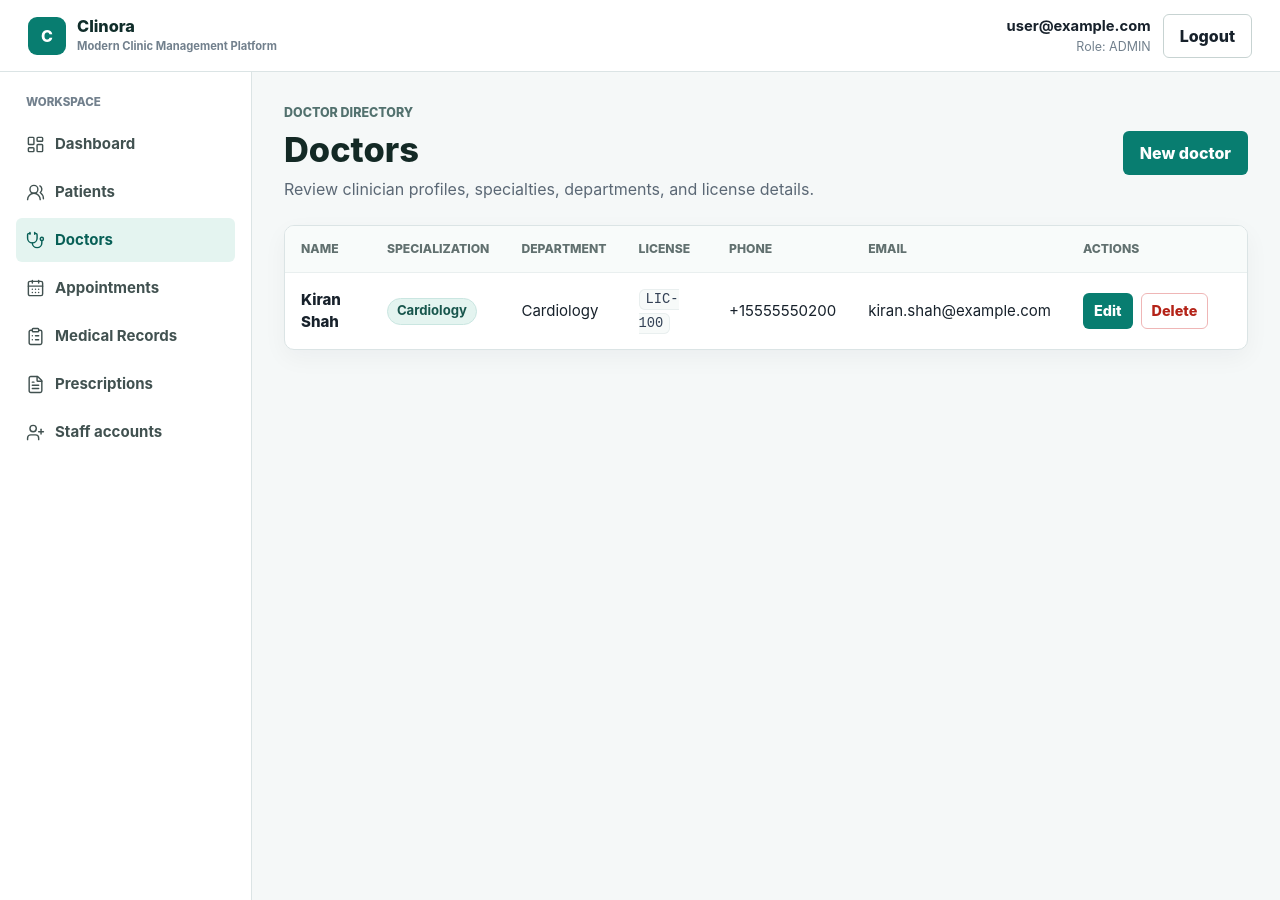
Test case: DoctorsPage › allows admins to delete doctors
Click the button "Delete" at {"x": 1174, "y": 311}, box [1140, 293, 1208, 329]
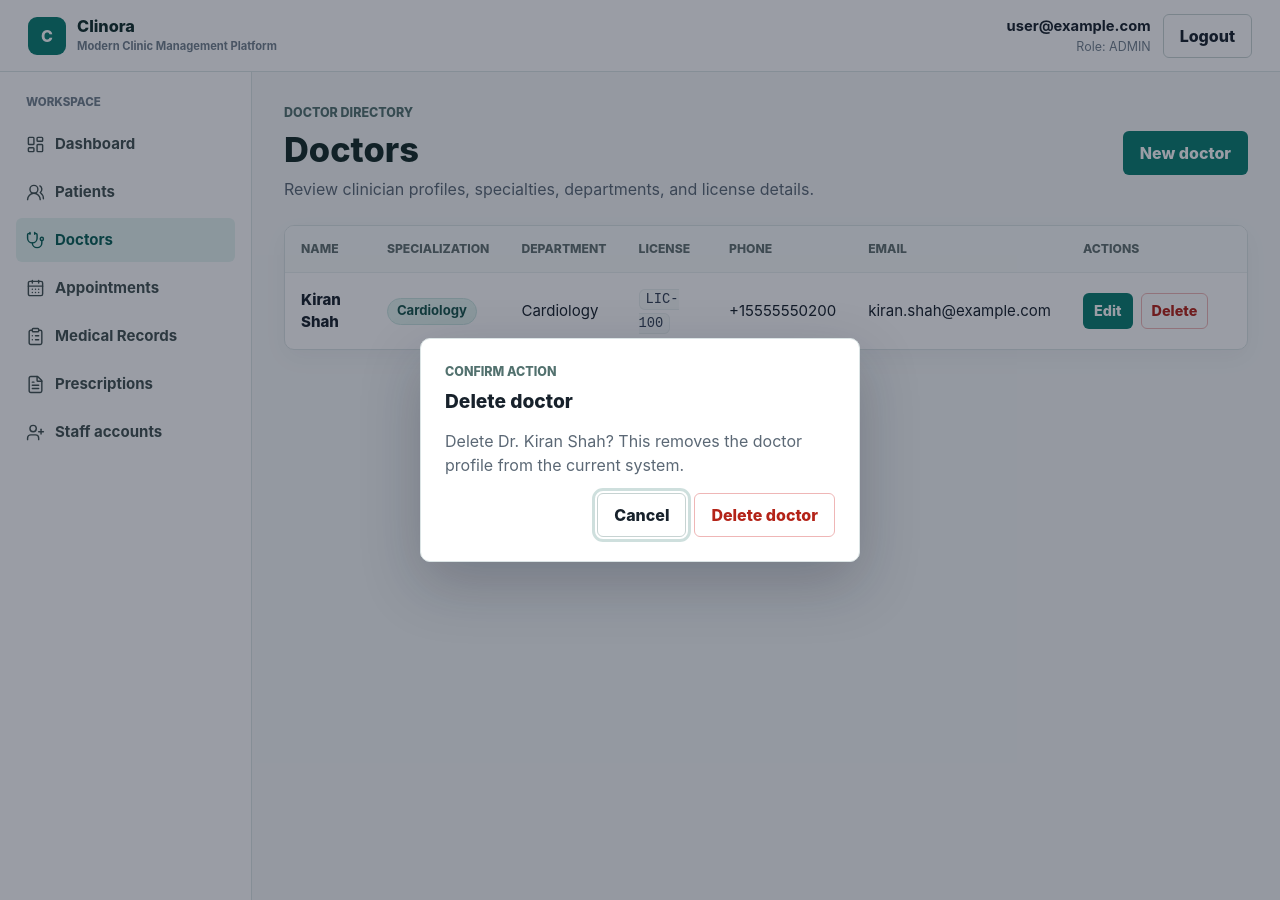
Expected: the dialog "Delete doctor" is shown, [420, 338, 860, 562]
Click the button "Delete doctor" at {"x": 765, "y": 515}, box [694, 493, 835, 537]
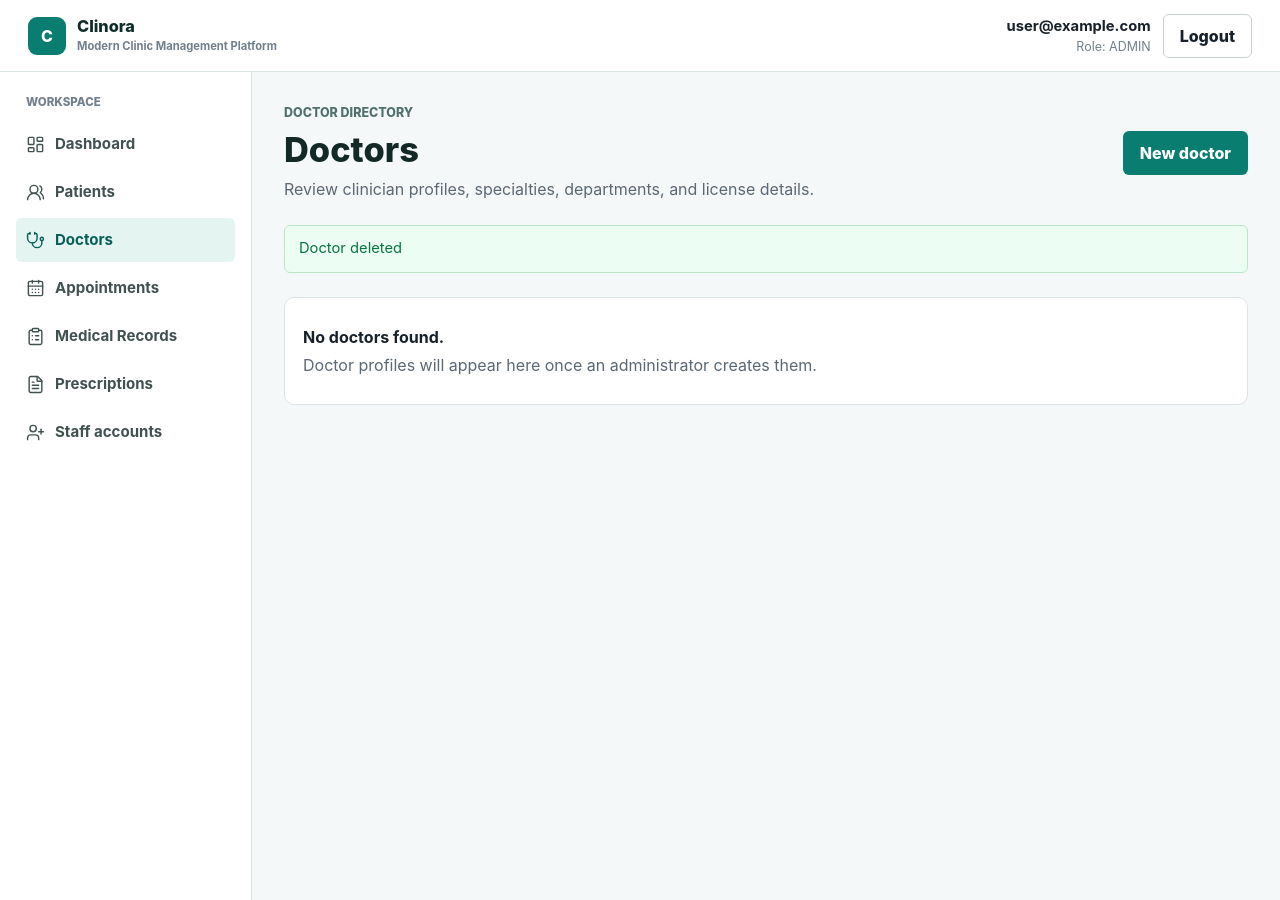
Expected: the message reads "Doctor deleted", [299, 239, 402, 257]
Expected: the text "Kiran Shah" is gone
